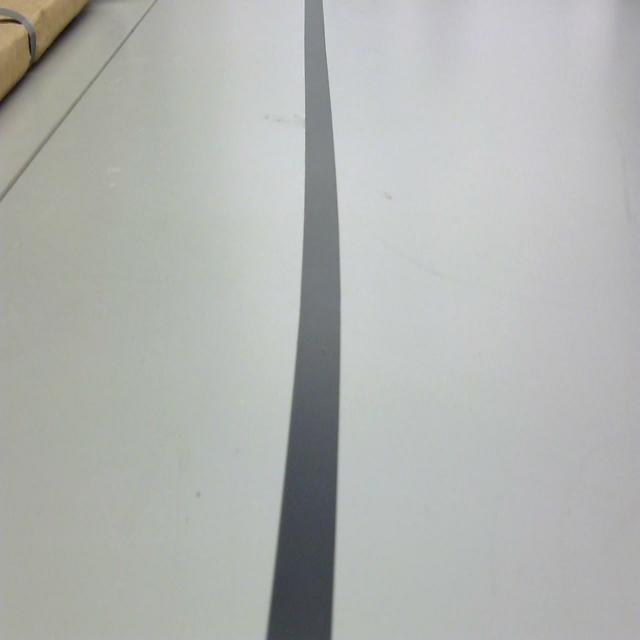tape: (252, 0, 359, 640)
